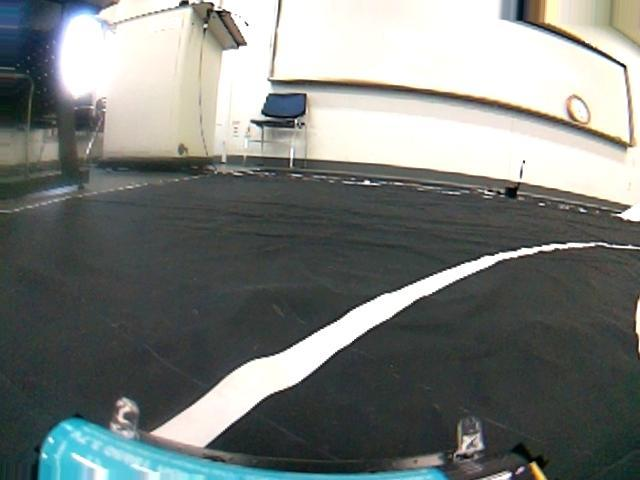right: (2, 231, 640, 479)
